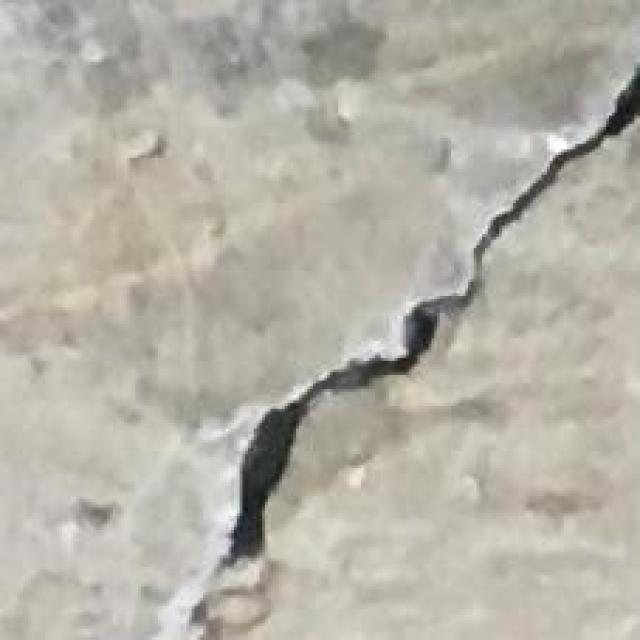Crack: (203, 41, 640, 574)
